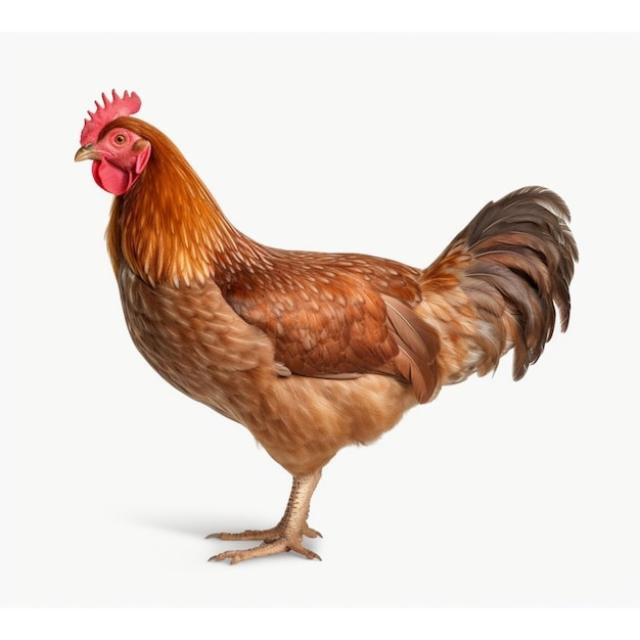Chicken: (74, 86, 580, 564)
